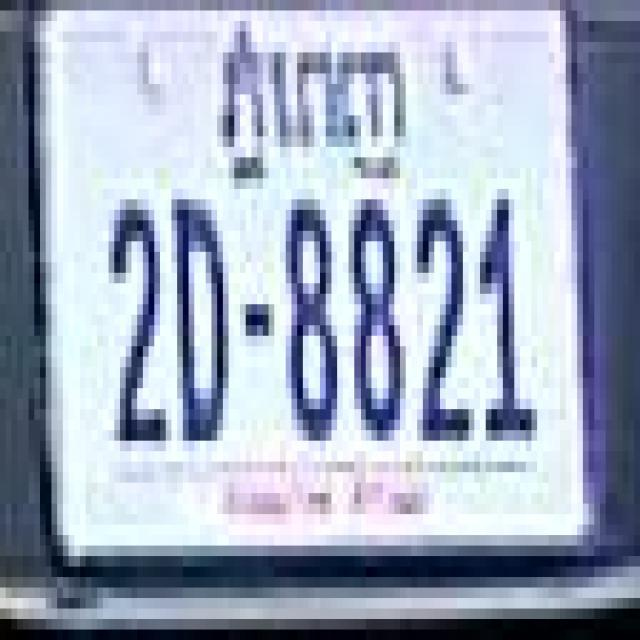Phnom_Penh: (217, 21, 402, 189)
